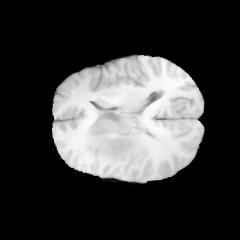glioma: (85, 113, 138, 159)
